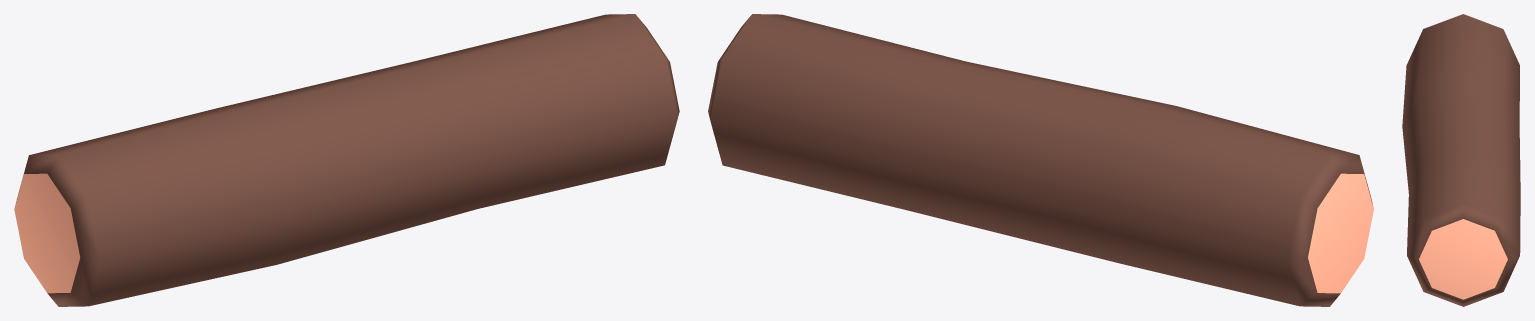
File: log_002.glb
3 views of the same model, side by side, from view 1: azimuth 30°, elevation 25°; view 2: azimuth 150°, elevation 25°; view 3: azimuth 270°, elevation 25° (orthographic). The views are drawn at different scales.
Parts seen in each view (by area): view 1: log_002; view 2: log_002; view 3: log_002.
Part boxes in pixels (x1,y1,x2,y2): log_002: (14, 14, 679, 306); log_002: (708, 14, 1373, 306); log_002: (1402, 14, 1520, 306).
Bounding box in the file's own units: 3.08 × 0.7739 × 0.7808.
Materials: 1 (1 with a texture image).
